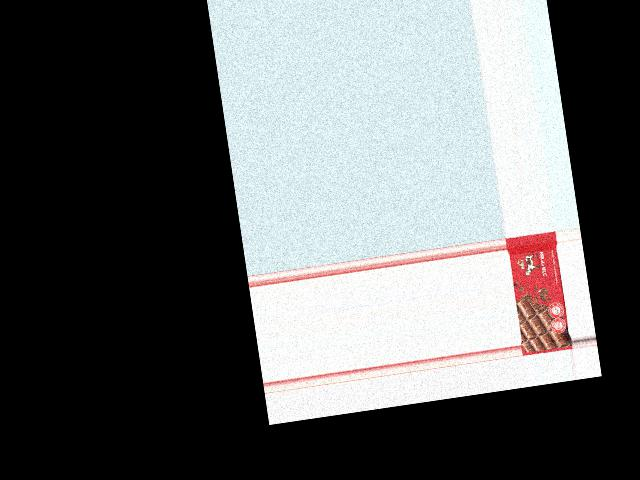chocolate: (506, 232, 573, 356)
